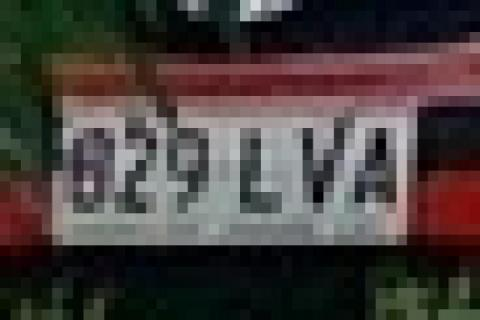LicensePlate: (44, 88, 418, 258)
